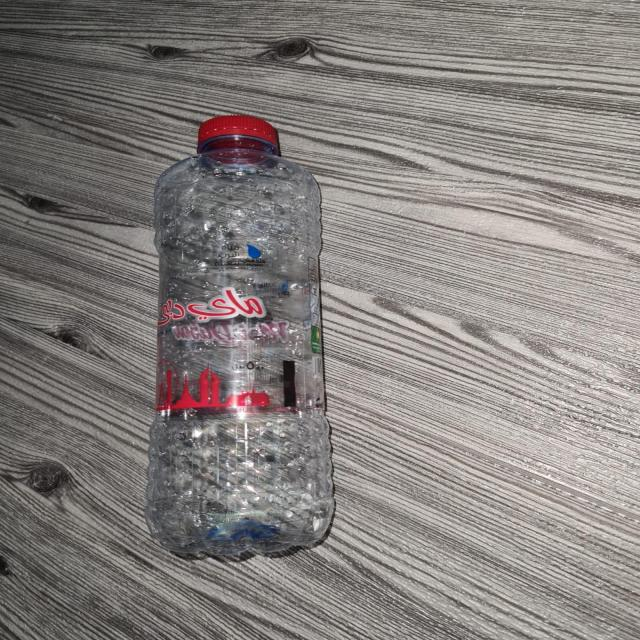bottle: (132, 106, 342, 568)
